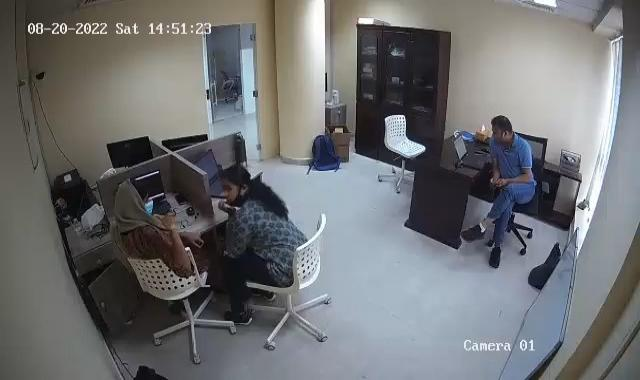no_hairnet: (218, 162, 255, 204), (115, 176, 150, 217), (489, 112, 515, 142)
